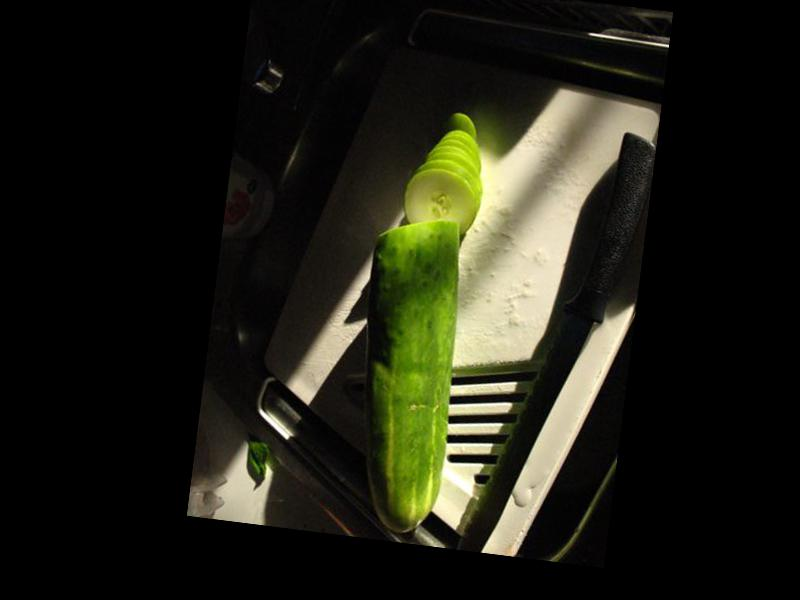Cucumber: (340, 210, 474, 537)
